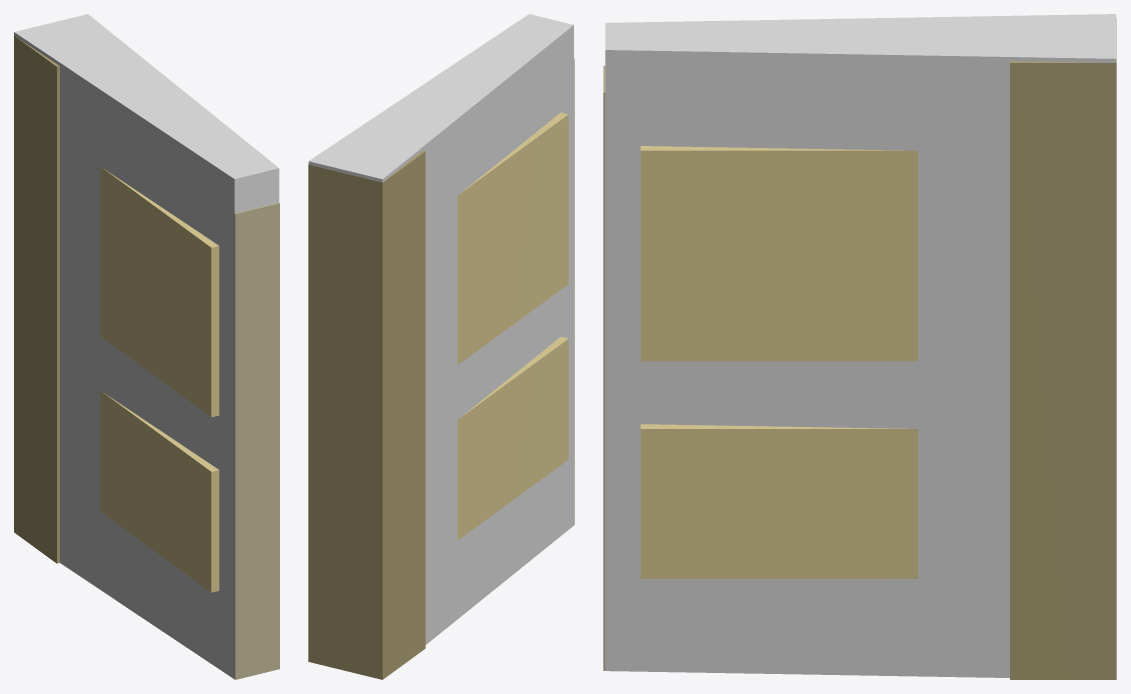
The model's file is Zabor01_B1_3_01.FBX.
3 renders of one model, left to right at view 1: azimuth 30°, elevation 25°; view 2: azimuth 150°, elevation 25°; view 3: azimuth 270°, elevation 25°, orthographic. The views are drawn at different scales.
Visible parts, largest first — view 1: Zabor01_B1_Live_3_01, Zabor01_B1_Damage_3_01; view 2: Zabor01_B1_Live_3_01, Zabor01_B1_Damage_3_01; view 3: Zabor01_B1_Live_3_01, Zabor01_B1_Damage_3_01.
Boxes of the visible parts, x1,y1,x2,y2 form: Zabor01_B1_Live_3_01: (14,35,279,679); Zabor01_B1_Damage_3_01: (14,14,279,679); Zabor01_B1_Live_3_01: (308,58,574,679); Zabor01_B1_Damage_3_01: (308,14,573,644); Zabor01_B1_Live_3_01: (603,18,1116,679); Zabor01_B1_Damage_3_01: (605,14,1116,677).
Bounding box in the file's own units: 0.5 × 3.22 × 2.41.
